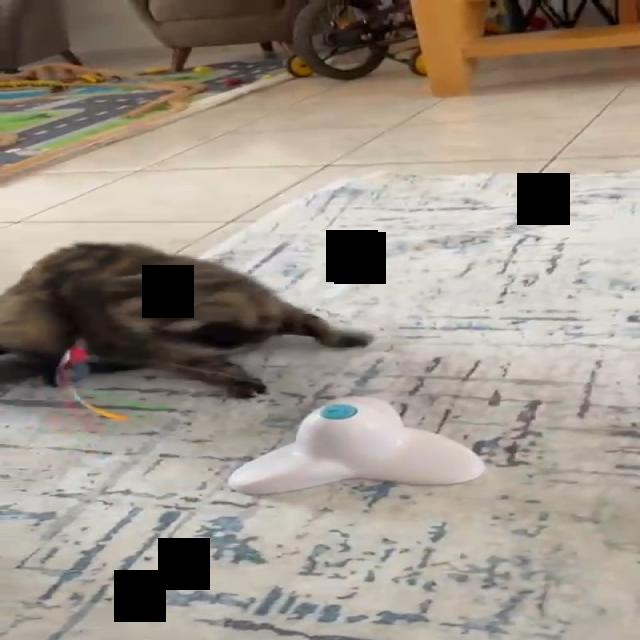authorized: (0, 240, 375, 399)
